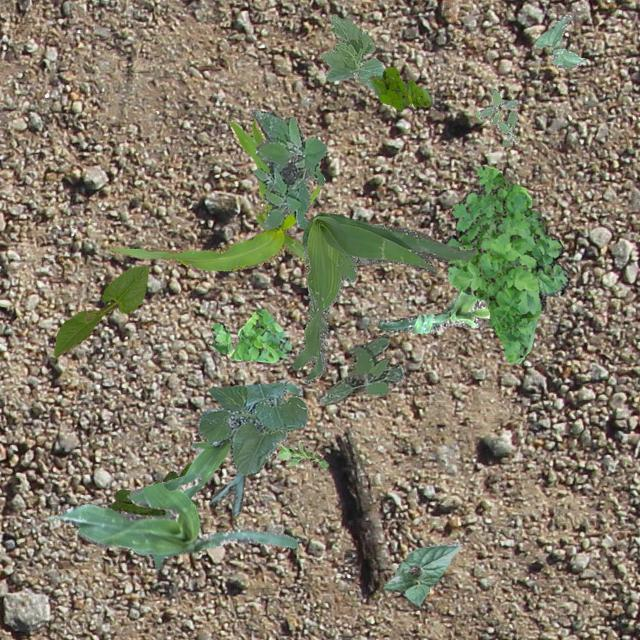crop: (105, 118, 321, 270), (150, 380, 302, 568), (55, 472, 296, 556), (196, 382, 306, 476), (52, 264, 148, 356), (382, 540, 461, 606), (376, 288, 490, 332), (320, 12, 382, 88), (532, 12, 584, 68)
weed: (292, 212, 476, 384), (440, 164, 570, 362), (250, 109, 326, 228), (316, 332, 402, 403), (106, 462, 190, 516), (207, 309, 290, 361), (368, 66, 429, 110), (474, 88, 518, 146), (274, 438, 326, 466)
